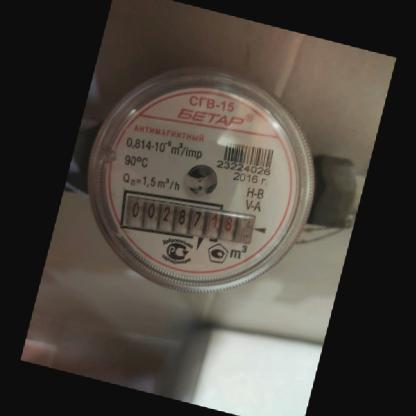digital_screen: (117, 188, 207, 239)
